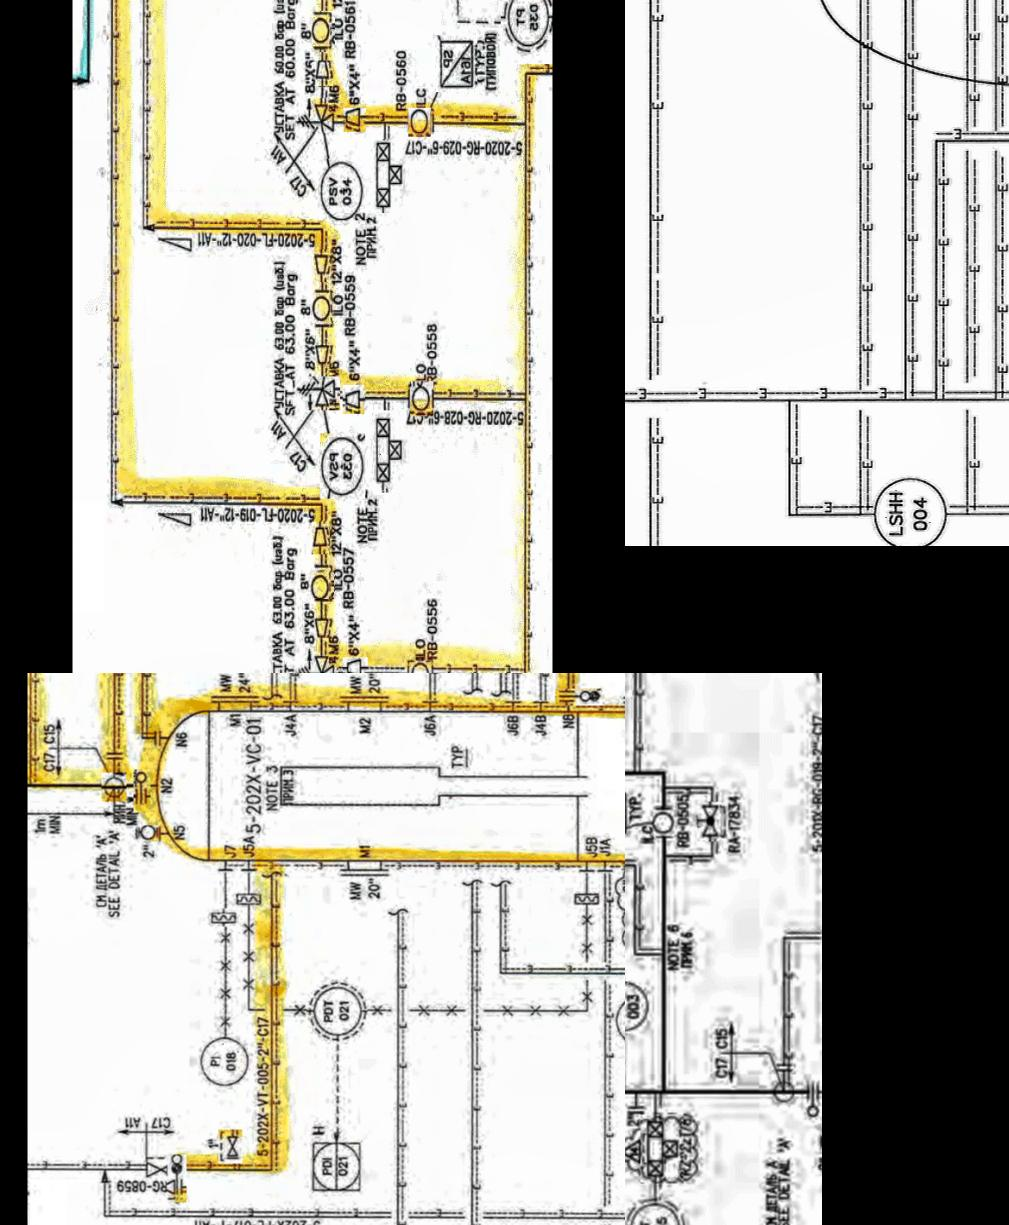2 WAY VALVE: (640, 1112, 682, 1182), (373, 409, 406, 491), (375, 136, 405, 211)
ANGLE RELIEF VALVE: (294, 97, 343, 132), (293, 375, 341, 409), (288, 647, 338, 673)
BLIND SPADE OPEN: (802, 1071, 822, 1118), (134, 769, 152, 812)
CONCENTRIC REDUCER: (312, 331, 333, 367), (344, 382, 366, 412), (312, 518, 332, 552), (312, 247, 333, 280), (344, 107, 368, 130), (311, 59, 334, 84), (315, 607, 329, 642), (343, 656, 367, 673)
DCS ACCESSIBLE: (303, 1132, 367, 1195)
DIAPHRAGM SEAL: (233, 888, 266, 909), (566, 889, 604, 907), (206, 908, 242, 926)
END FLANGED: (770, 1058, 797, 1077)
FIELD INSTRUMENT: (868, 474, 951, 544), (306, 977, 367, 1043), (500, 0, 552, 62), (318, 157, 368, 218), (320, 432, 365, 498), (199, 1036, 252, 1085), (625, 1192, 690, 1225), (625, 977, 650, 1032), (312, 9, 336, 50), (650, 805, 677, 835), (410, 380, 433, 415), (308, 569, 336, 597), (101, 770, 126, 800), (409, 107, 432, 135), (311, 292, 335, 319), (773, 1076, 795, 1103), (408, 656, 432, 673), (138, 823, 158, 840)
GATE VALVE: (219, 1129, 244, 1163), (141, 1157, 176, 1179)
GLOBE VALVE: (698, 801, 723, 841)
REVISION TRIANGLE: (625, 1136, 639, 1162)
SPECIAL PIPING ITEM: (436, 32, 478, 90)
SPECTACLE BLIND OPEN: (166, 1154, 186, 1202), (556, 688, 604, 705)
